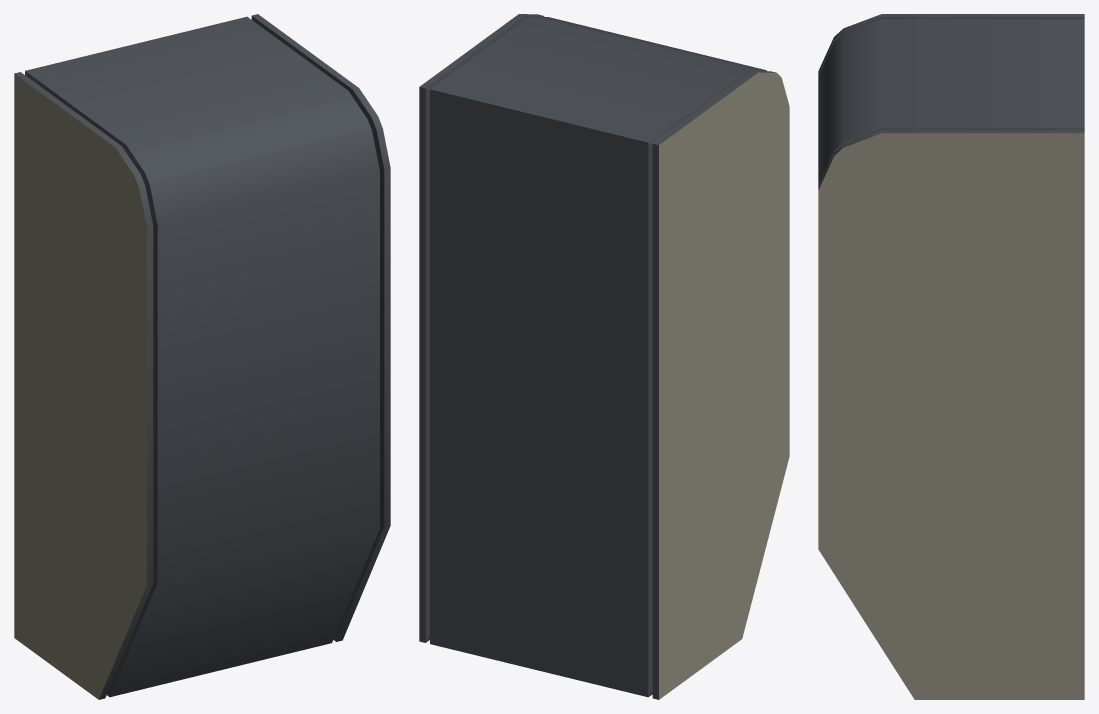
The model's file is SM_box_restaurant.fbx.
3 views of the same model, side by side, from view 1: azimuth 30°, elevation 25°; view 2: azimuth 150°, elevation 25°; view 3: azimuth 270°, elevation 25° (orthographic). The views are drawn at different scales.
Visible parts, largest first — view 1: box_restaurant; view 2: box_restaurant; view 3: box_restaurant.
Boxes of the visible parts, x1=… form: box_restaurant: x1=14, y1=14, x2=390, y2=699; box_restaurant: x1=419, y1=14, x2=789, y2=699; box_restaurant: x1=818, y1=14, x2=1084, y2=699.
Bounding box in the file's own units: 10.71 × 23.7 × 10.1.
